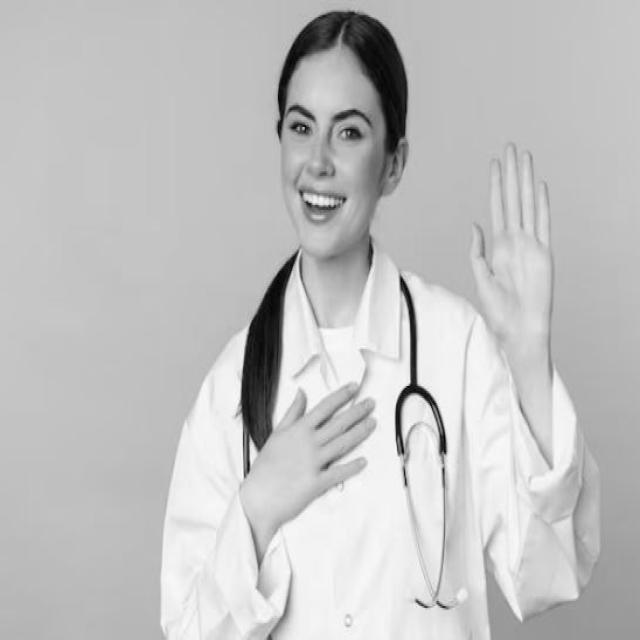stop: (467, 132, 560, 377)
